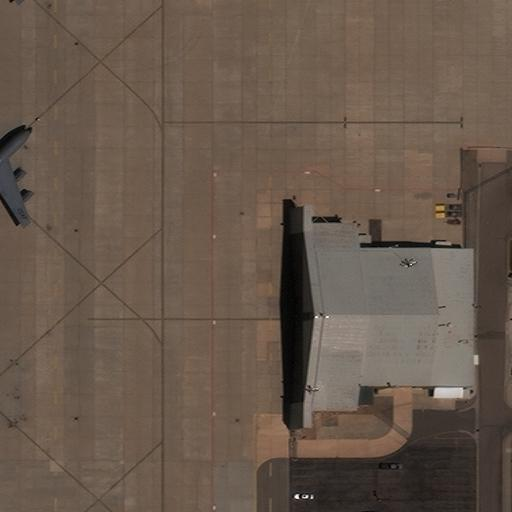Military Transport: (0, 128, 31, 221)
